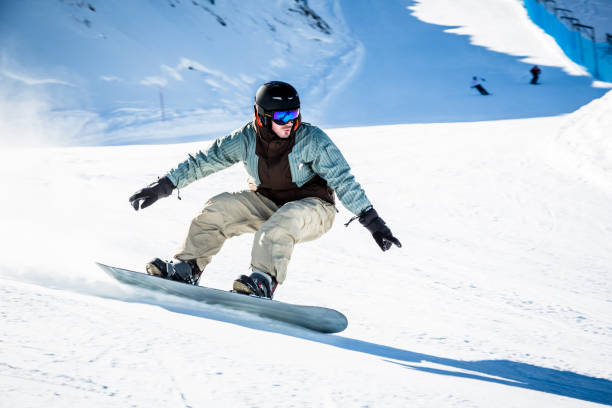snowboarder: (94, 57, 404, 344)
